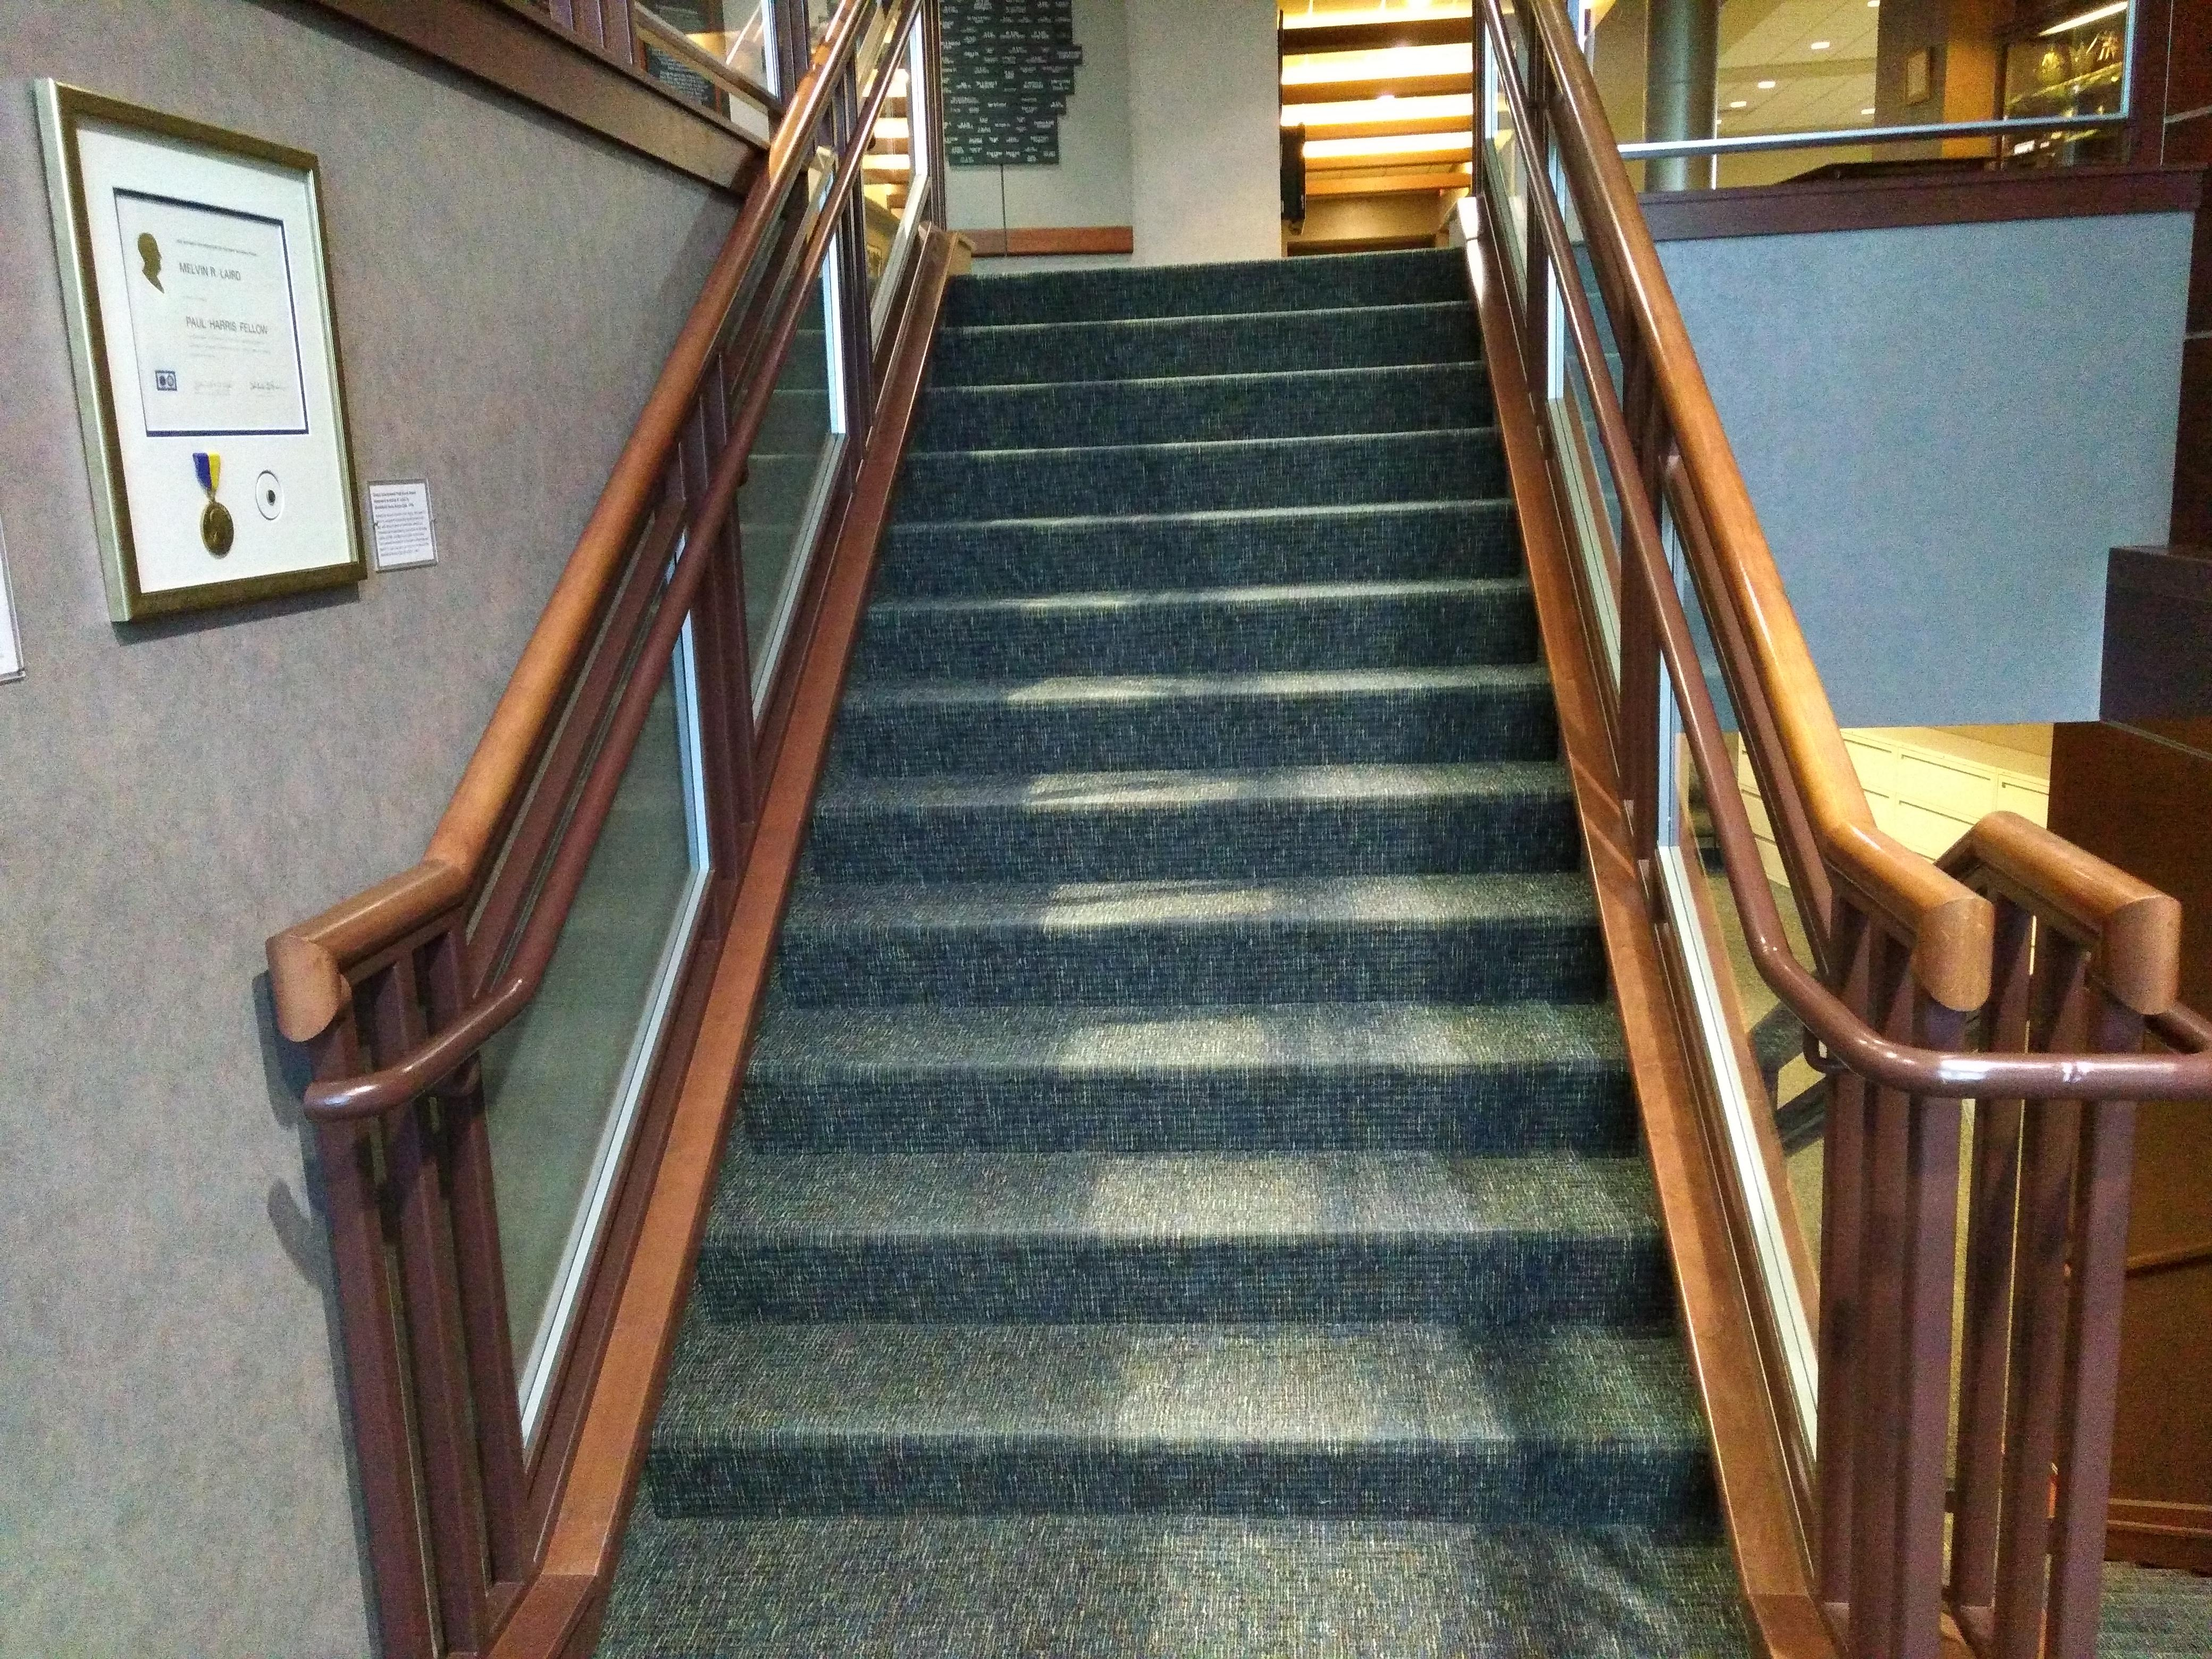stairs_up: (657, 134, 1700, 1570)
